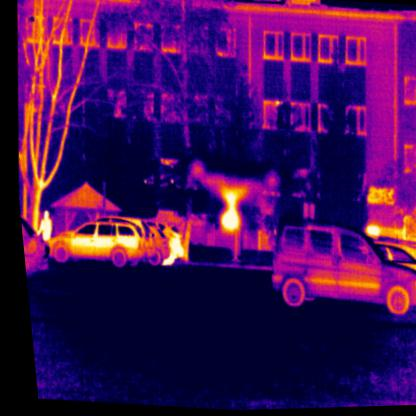drone: (179, 157, 280, 237)
human: (30, 209, 49, 241)
vehicle: (258, 218, 415, 322), (40, 216, 141, 270)
